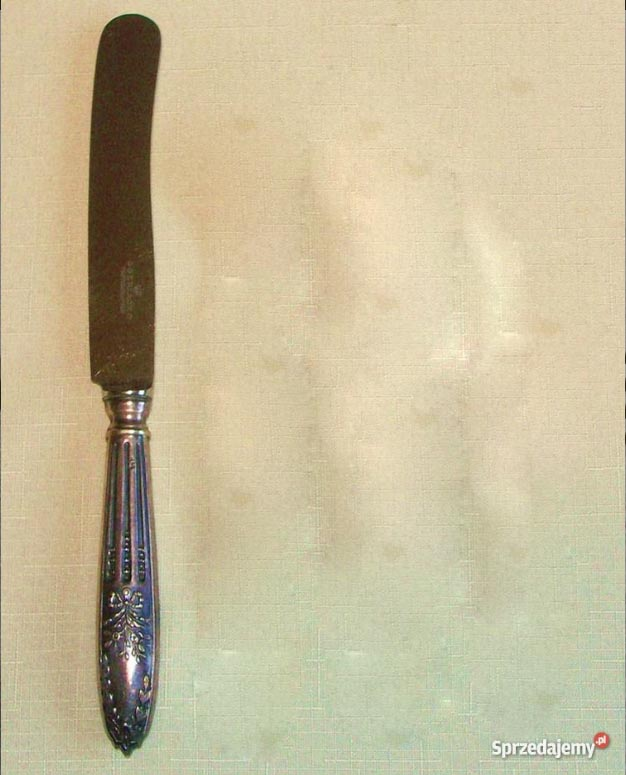Noz: (83, 11, 166, 392)
